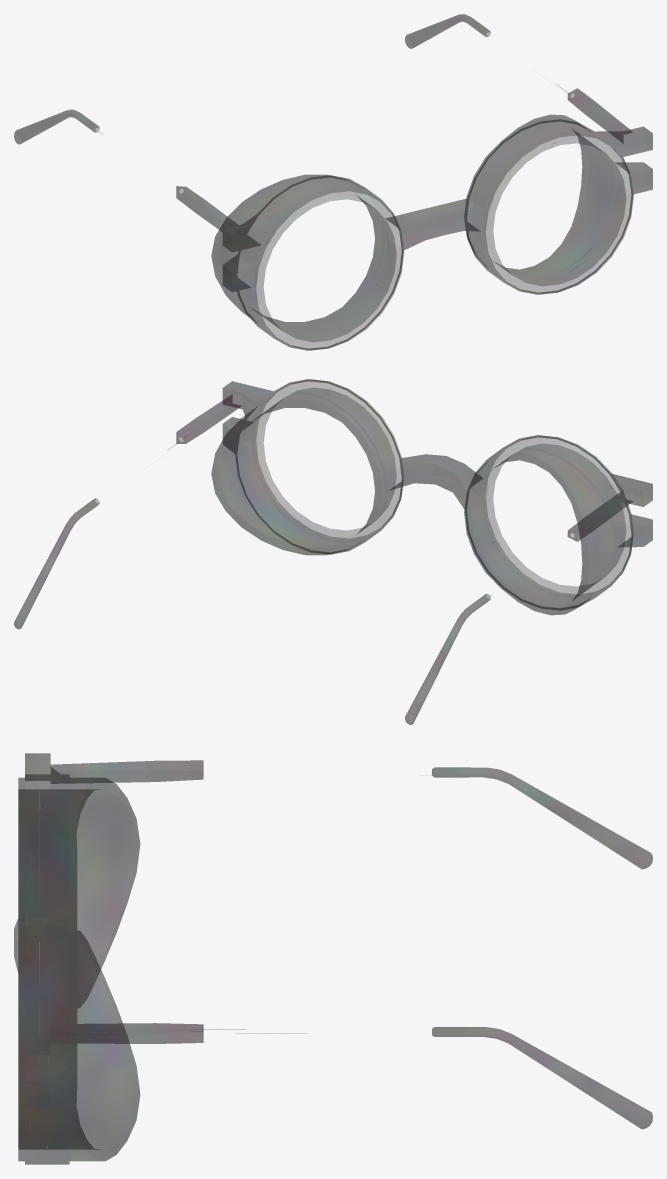
Rendered from glasses-transformed.glb.
3 renders of one model, top to bottom at view 1: azimuth 30°, elevation 25°; view 2: azimuth 150°, elevation 25°; view 3: azimuth 270°, elevation 25°, orthographic. The views are drawn at different scales.
Parts seen in each view (by area): view 1: Glasses0004.001; view 2: Glasses0004.001; view 3: Glasses0004.001.
Part boxes in pixels (x1,y1,x2,y2): Glasses0004.001: (14, 14, 652, 350); Glasses0004.001: (14, 379, 652, 724); Glasses0004.001: (14, 753, 652, 1164).
Bounding box in the file's own units: 0.1351 × 0.0489 × 0.1307.
1 material, 1 textured.
